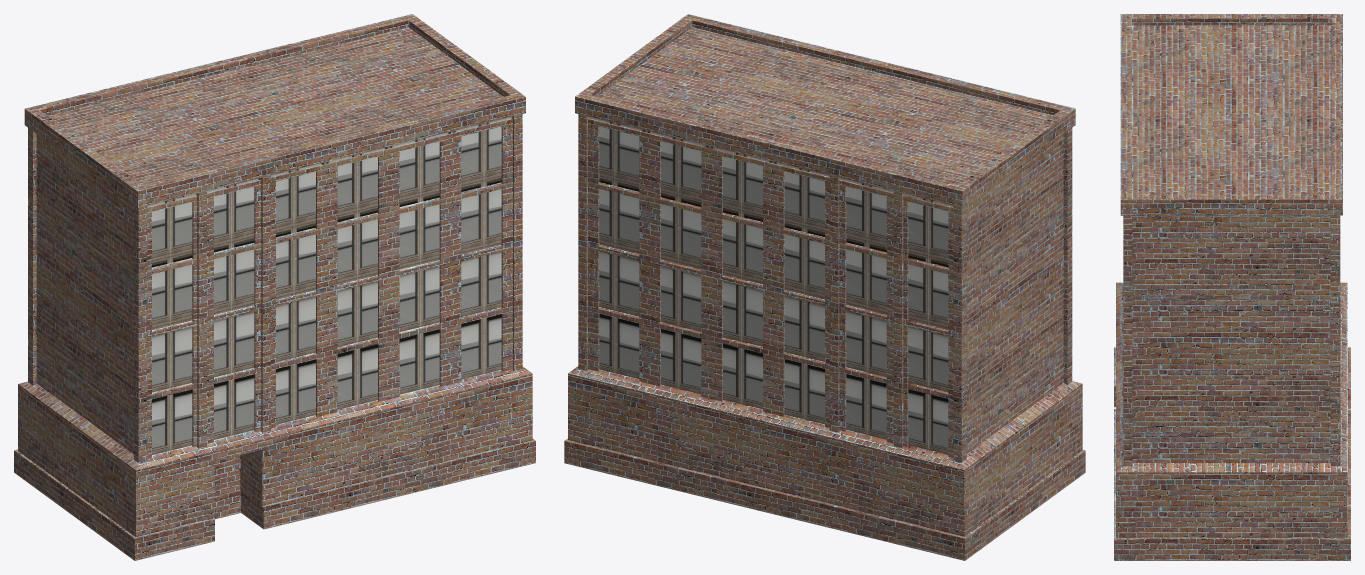
The model's file is building4.fbx.
3 renders of one model, left to right at view 1: azimuth 30°, elevation 25°; view 2: azimuth 150°, elevation 25°; view 3: azimuth 270°, elevation 25°, orthographic.
Parts seen in each view (by area): view 1: Cube; view 2: Cube; view 3: Cube.
Boxes of the visible parts, x1,y1,x2,y2 form: Cube: (14, 14, 535, 560); Cube: (564, 14, 1085, 560); Cube: (1114, 14, 1350, 560).
Size of the model in its own units: 1881 by 1637 by 981.
